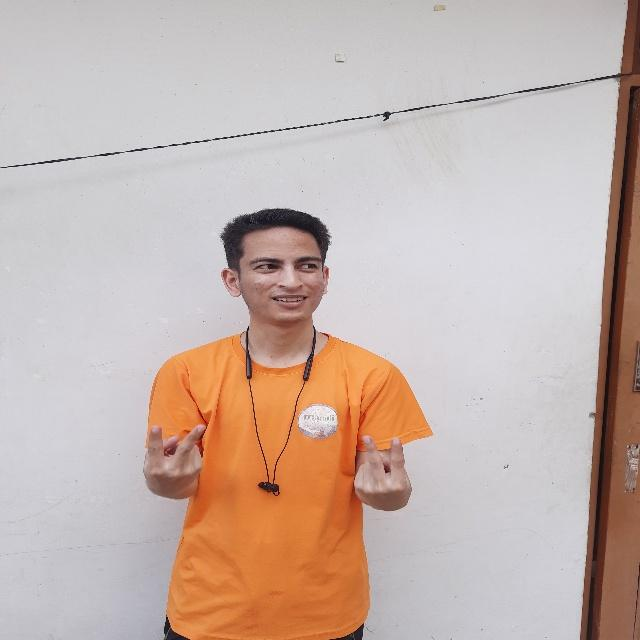Reversed Victory: (140, 415, 214, 507), (339, 427, 418, 511)
